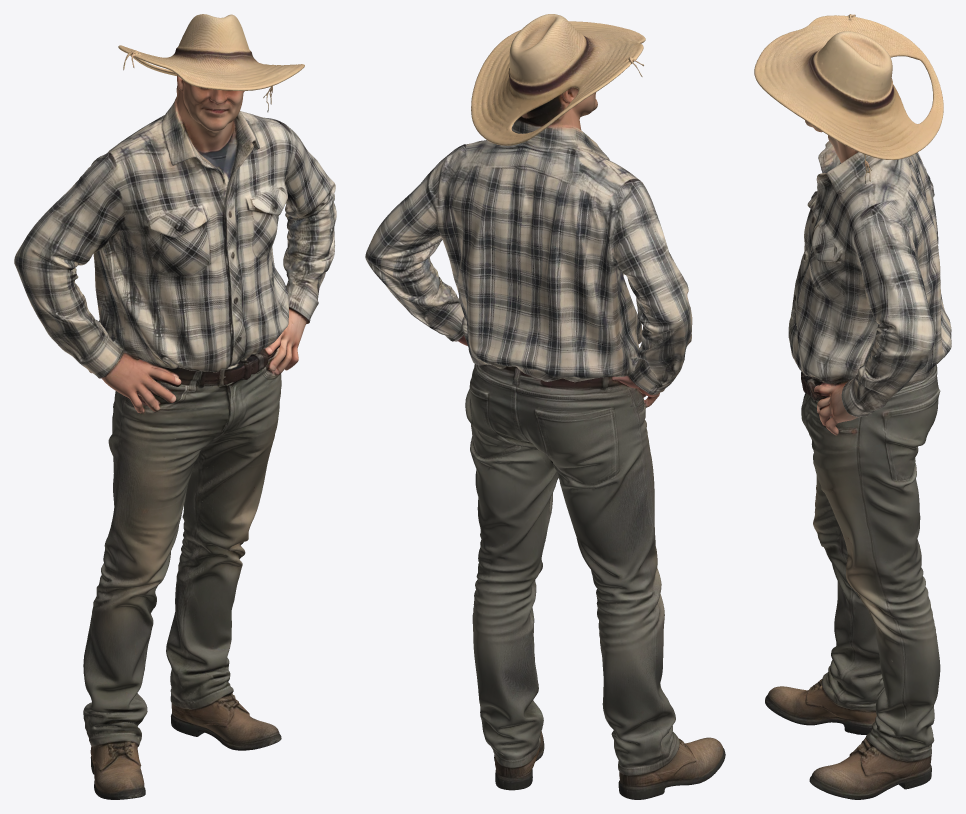
Rendered from straw_hat_farmer.glb.
3 views of the same model, side by side, from view 1: azimuth 30°, elevation 25°; view 2: azimuth 150°, elevation 25°; view 3: azimuth 270°, elevation 25° (orthographic).
Visible parts, largest first — view 1: Object_5, Object_6, Object_7, Object_8; view 2: Object_7, Object_6, Object_8, Object_5; view 3: Object_7, Object_6, Object_5, Object_8.
Part boxes in pixels (x1=…): Object_5: x1=93, y1=14, x2=317, y2=799; Object_6: x1=27, y1=14, x2=335, y2=766; Object_7: x1=14, y1=19, x2=336, y2=768; Object_8: x1=44, y1=14, x2=331, y2=789; Object_7: x1=366, y1=30, x2=692, y2=799; Object_6: x1=365, y1=14, x2=691, y2=790; Object_8: x1=431, y1=15, x2=699, y2=796; Object_5: x1=477, y1=15, x2=725, y2=794; Object_7: x1=823, y1=17, x2=951, y2=788; Object_6: x1=807, y1=14, x2=940, y2=798; Object_5: x1=754, y1=25, x2=888, y2=793; Object_8: x1=805, y1=14, x2=888, y2=799.
Size of the model in its own units: 0.843 by 1.9 by 0.4572.
1 material, 1 textured.
